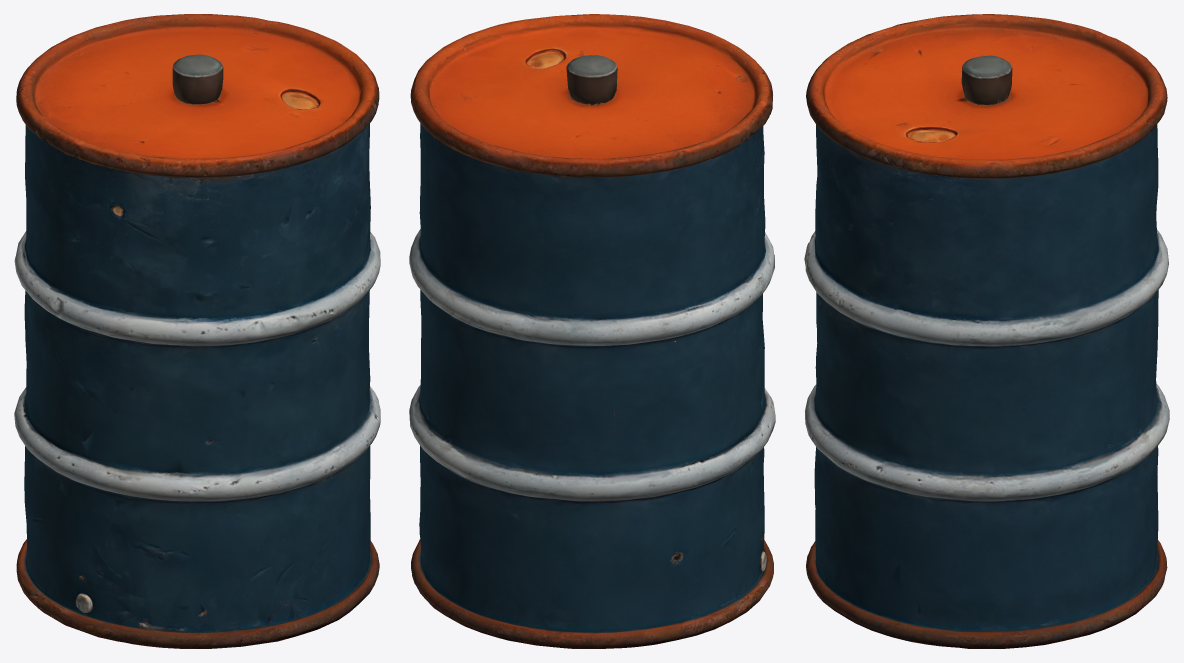
Rendered from barrel.glb.
3 renders of one model, left to right at view 1: azimuth 30°, elevation 25°; view 2: azimuth 150°, elevation 25°; view 3: azimuth 270°, elevation 25°, orthographic.
Size of the model in its own units: 0.6316 by 0.9797 by 0.6296.
Materials: 1 (1 with a texture image).
